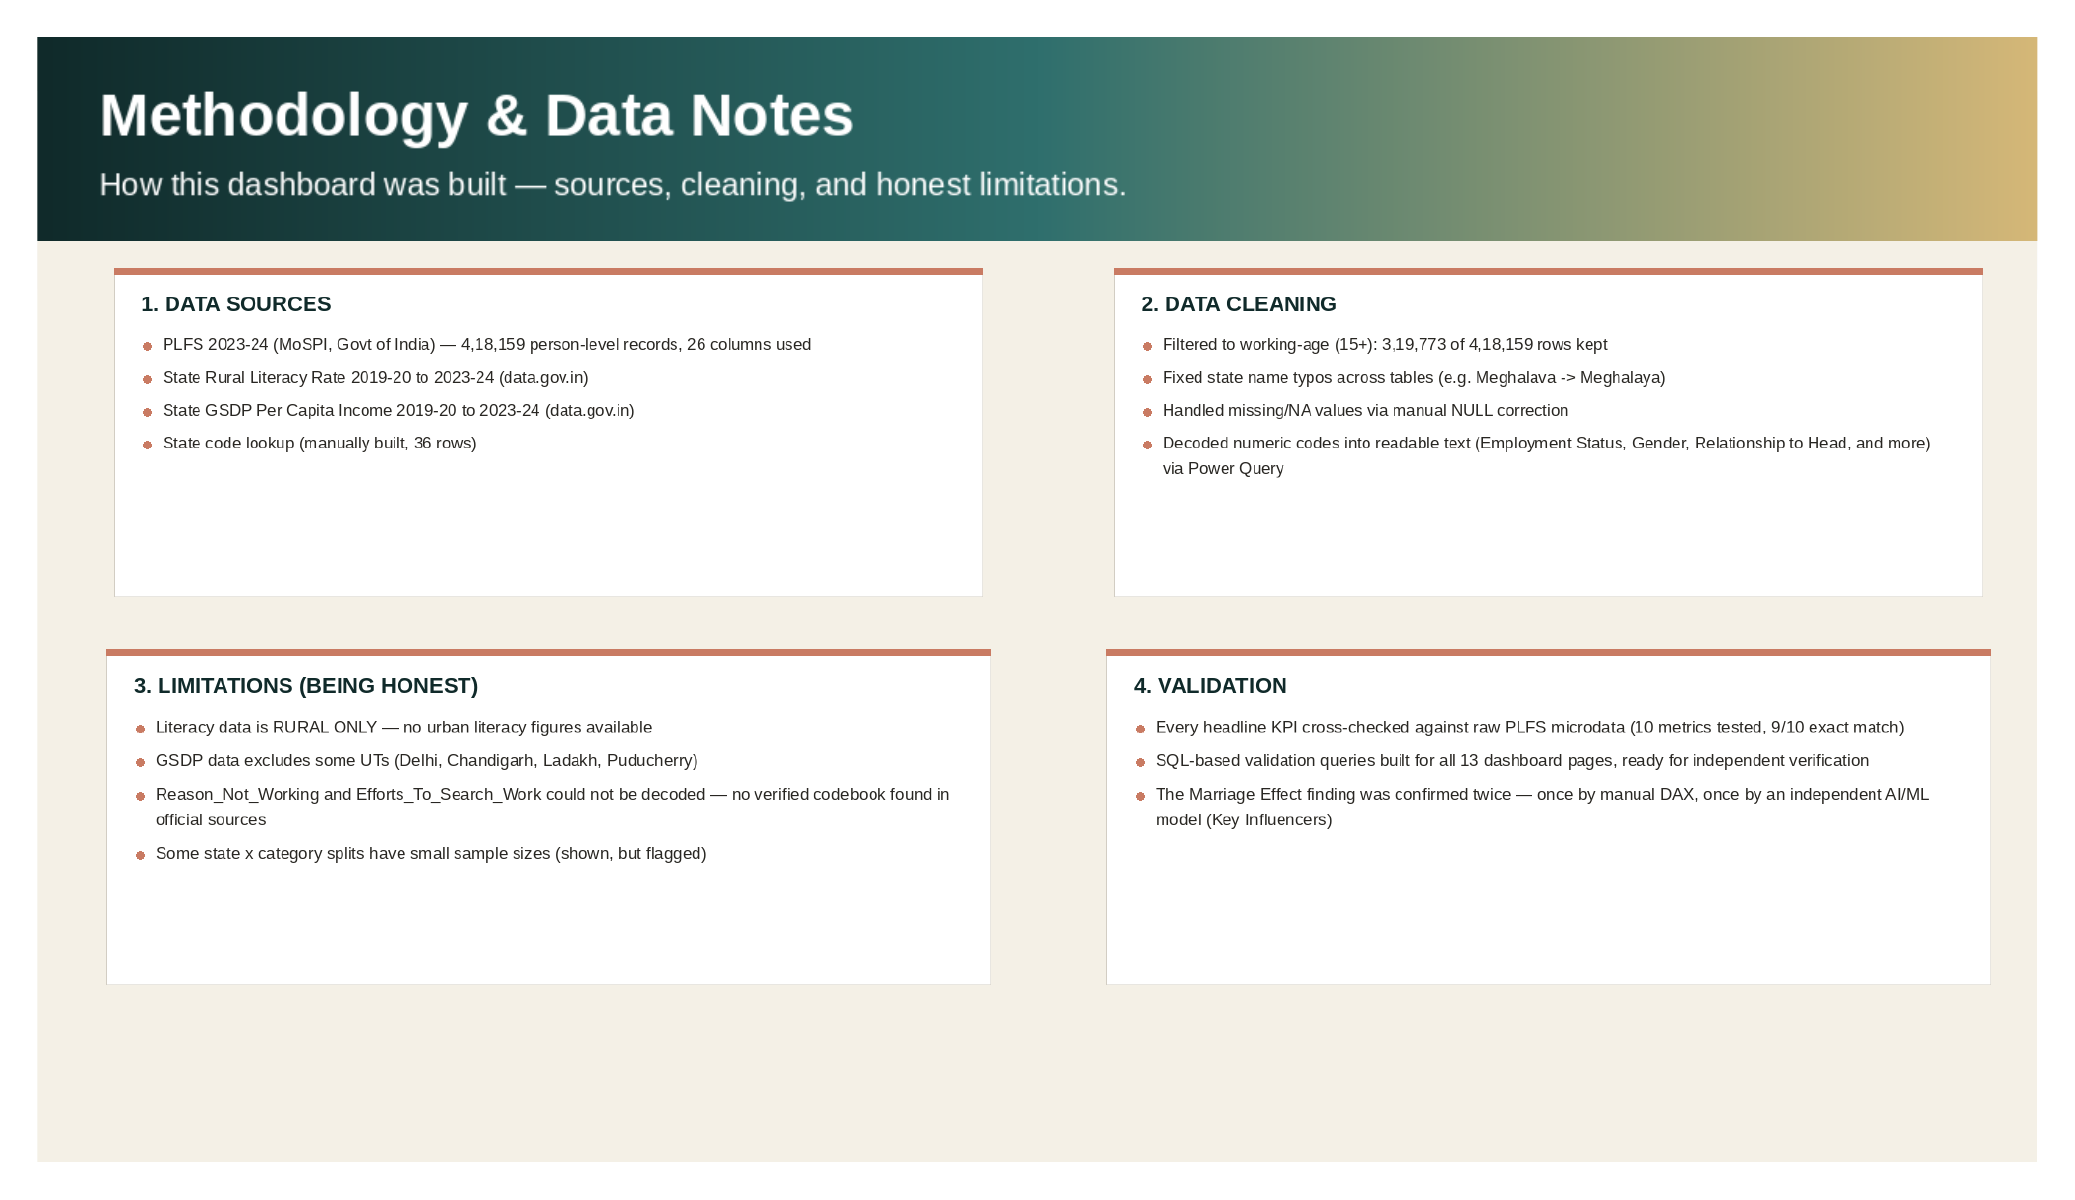

What the dashboard file says about the page in this screenshot:
{"tool":"powerbi","page":{"name":"Methodology & Data Notes","canvas":[1280,720],"ordinal":12},"visuals":[{"type":"image","box":[0,0,1280.5,129.9],"z":0},{"type":"image","box":[0,148.4,654,210],"z":1000},{"type":"image","box":[654,148,626,210],"z":2000},{"type":"image","box":[0,392,654,214],"z":3000},{"type":"image","box":[654,392,626,214],"z":4000}]}

Visuals, with their boxes on the page's 1280x720 design canvas (x1, y1, x2, y2). These are canvas units, not pixel positions in the 2075x1200 screenshot, which may show the page scaled, cropped or inside an application window:
image: 0 0 1280 130
image: 0 148 654 358
image: 654 148 1280 358
image: 0 392 654 606
image: 654 392 1280 606
